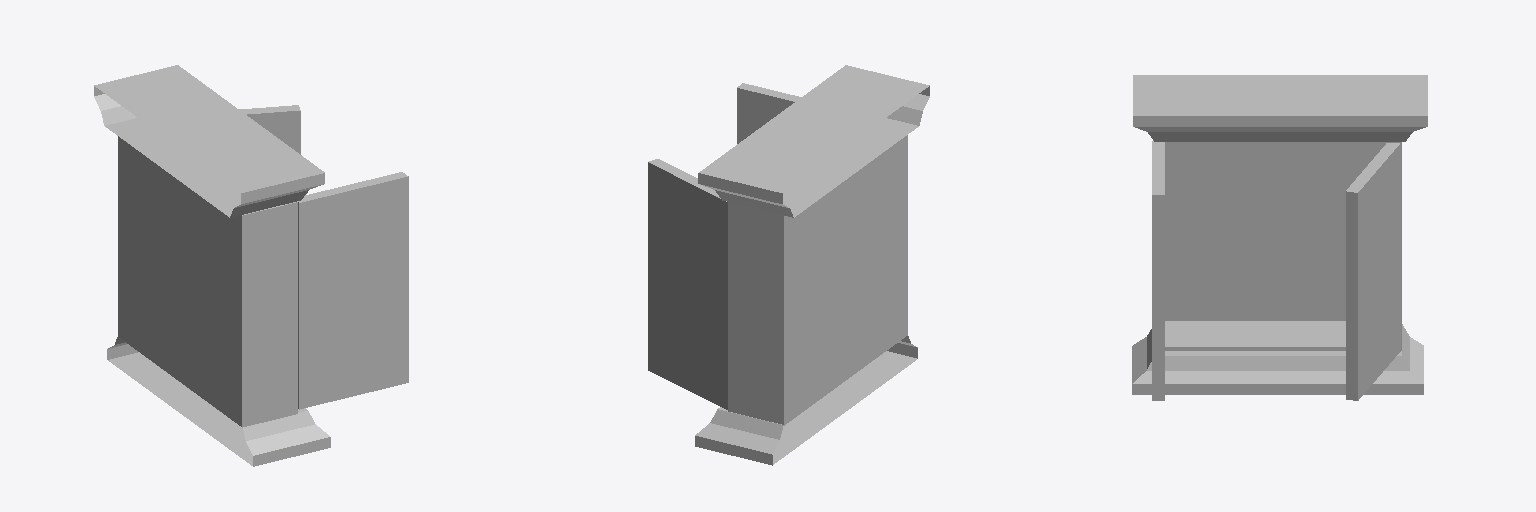
File: cabinetHP.obj
The picture shows the model from 3 angles: view 1: azimuth 30°, elevation 25°; view 2: azimuth 150°, elevation 25°; view 3: azimuth 270°, elevation 25°; orthographic projection.
Parts seen in each view (by area): view 1: pCube85, pCube110 doors, pCube86, pCube84, doors pCube111; view 2: pCube85, pCube86, doors pCube111, pCube84, pCube110 doors; view 3: pCube85, pCube86, doors pCube111, pCube84, pCube110 doors.
Boxes of the visible parts, <box> form: pCube85: <box>118,136,297,427</box>; pCube110 doors: <box>297,172,408,409</box>; pCube86: <box>94,65,324,217</box>; pCube84: <box>107,337,330,466</box>; doors pCube111: <box>239,105,300,154</box>; pCube85: <box>728,135,907,425</box>; pCube86: <box>698,65,929,217</box>; doors pCube111: <box>648,159,727,409</box>; pCube84: <box>695,336,917,465</box>; pCube110 doors: <box>737,83,801,143</box>; pCube85: <box>1153,140,1401,350</box>; pCube86: <box>1133,75,1427,141</box>; doors pCube111: <box>1346,143,1400,400</box>; pCube84: <box>1132,324,1423,394</box>; pCube110 doors: <box>1152,141,1164,400</box>.
Size of the model in its own units: 2.48 by 3.69 by 3.57.